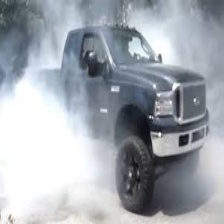smoke: (3, 90, 88, 210)
